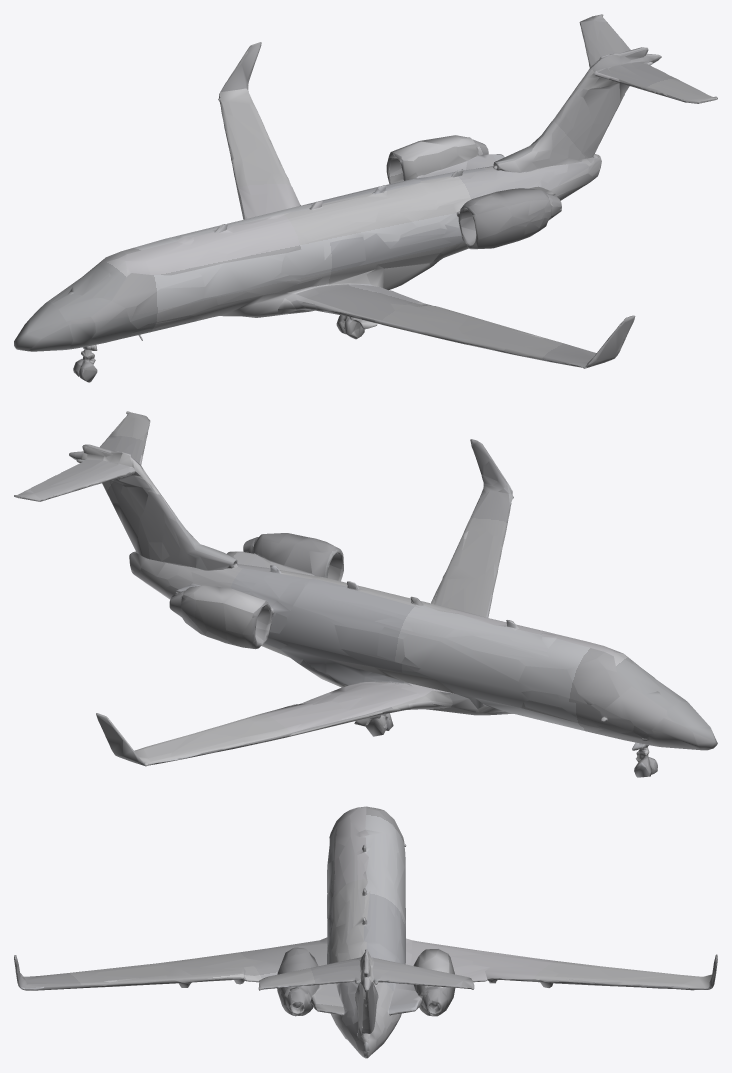
Rendered from jet_mid.glb.
3 renders of one model, top to bottom at view 1: azimuth 30°, elevation 25°; view 2: azimuth 150°, elevation 25°; view 3: azimuth 270°, elevation 25°, orthographic. The views are drawn at different scales.
Visible parts, largest first — view 1: LO; view 2: LO; view 3: LO.
Part boxes in pixels (box(x1,y1,x2,y2)): LO: box(14, 14, 717, 382); LO: box(14, 411, 717, 777); LO: box(14, 806, 717, 1058).
Size of the model in its own units: 20.89 by 6.09 by 20.97.
1 material, 1 textured.
